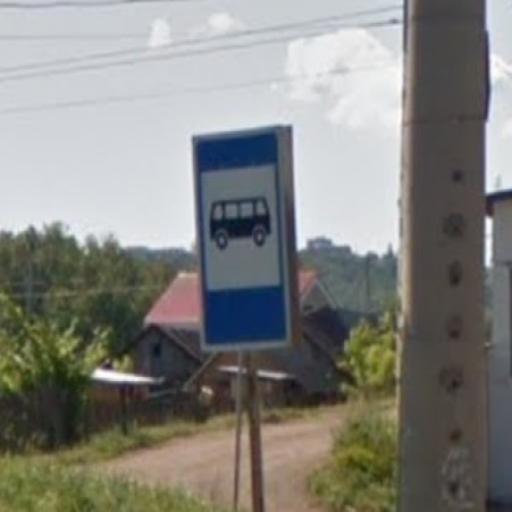traffic_sign: (193, 125, 295, 355)
